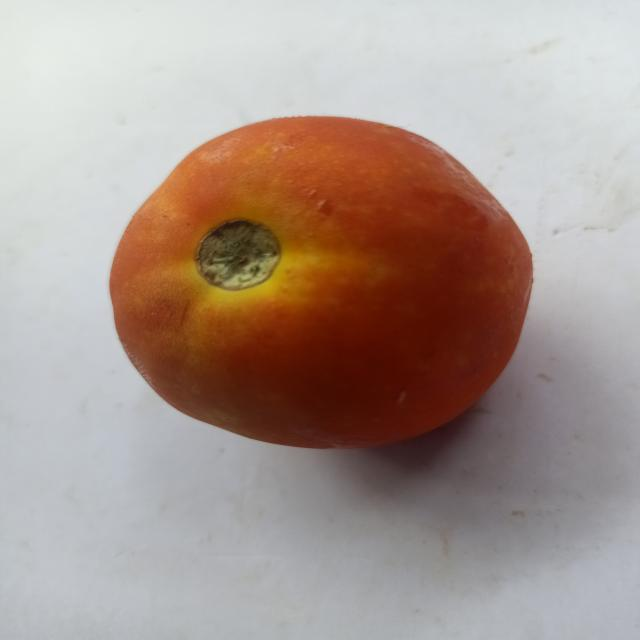Tomato: (99, 92, 546, 462)
